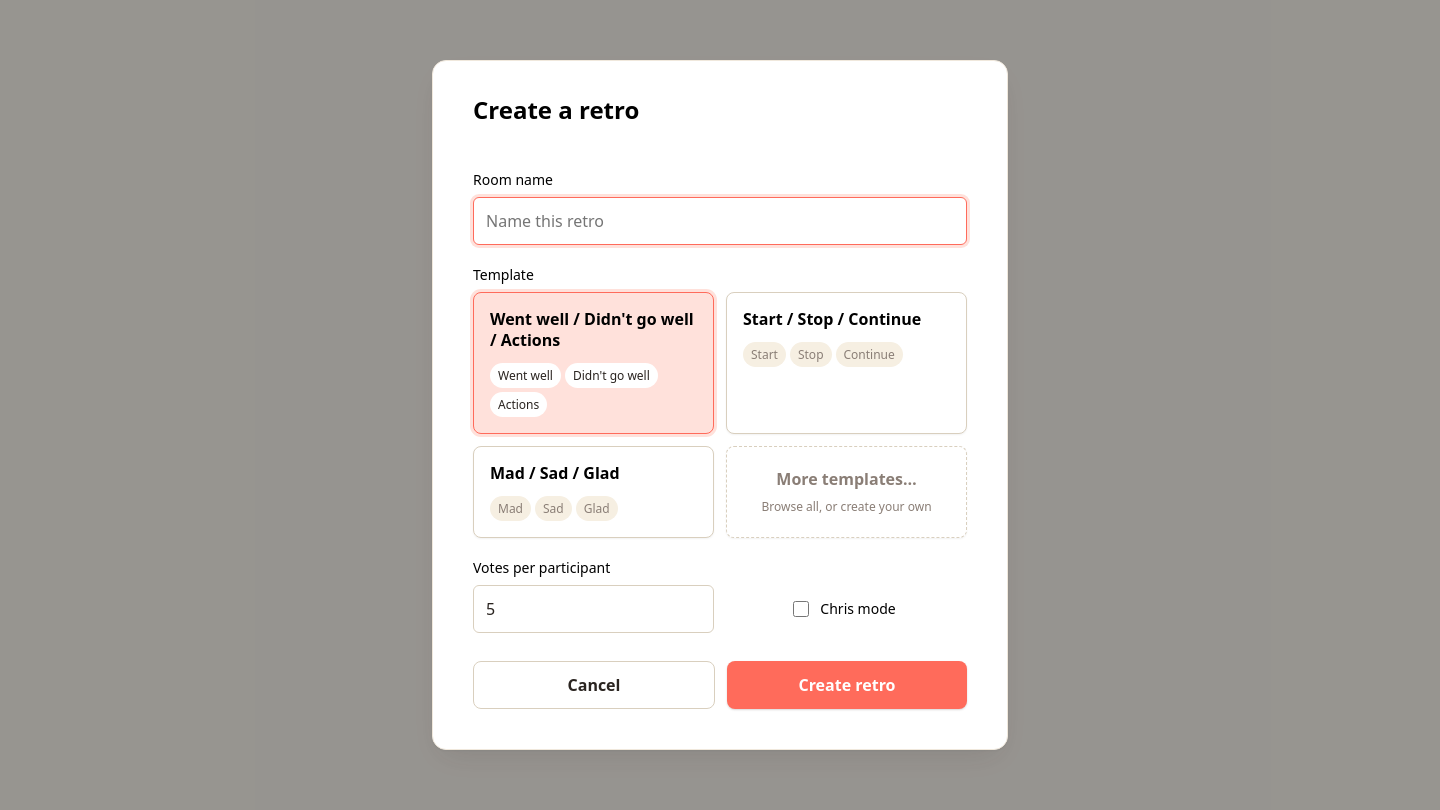
it: CreateRoomModal › rejects votes-per-participant < 1
The image size is (1440, 810).
Replace the text in the number field labelled "Votes per participant" with "0" at {"x": 594, "y": 609}, box [473,585,714,633]
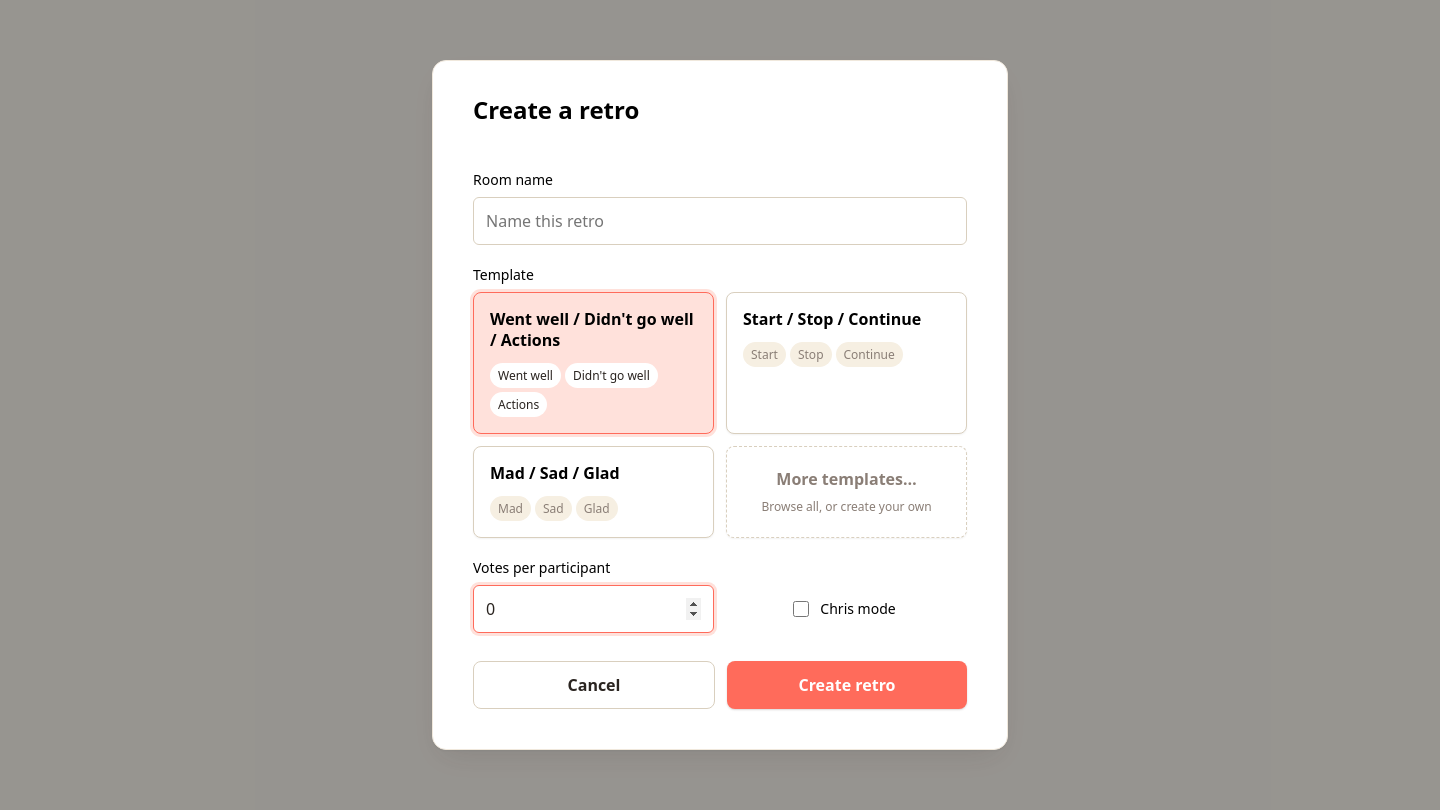
Type "X" into the field labelled "Room name" at {"x": 720, "y": 221}, box [473,197,967,245]
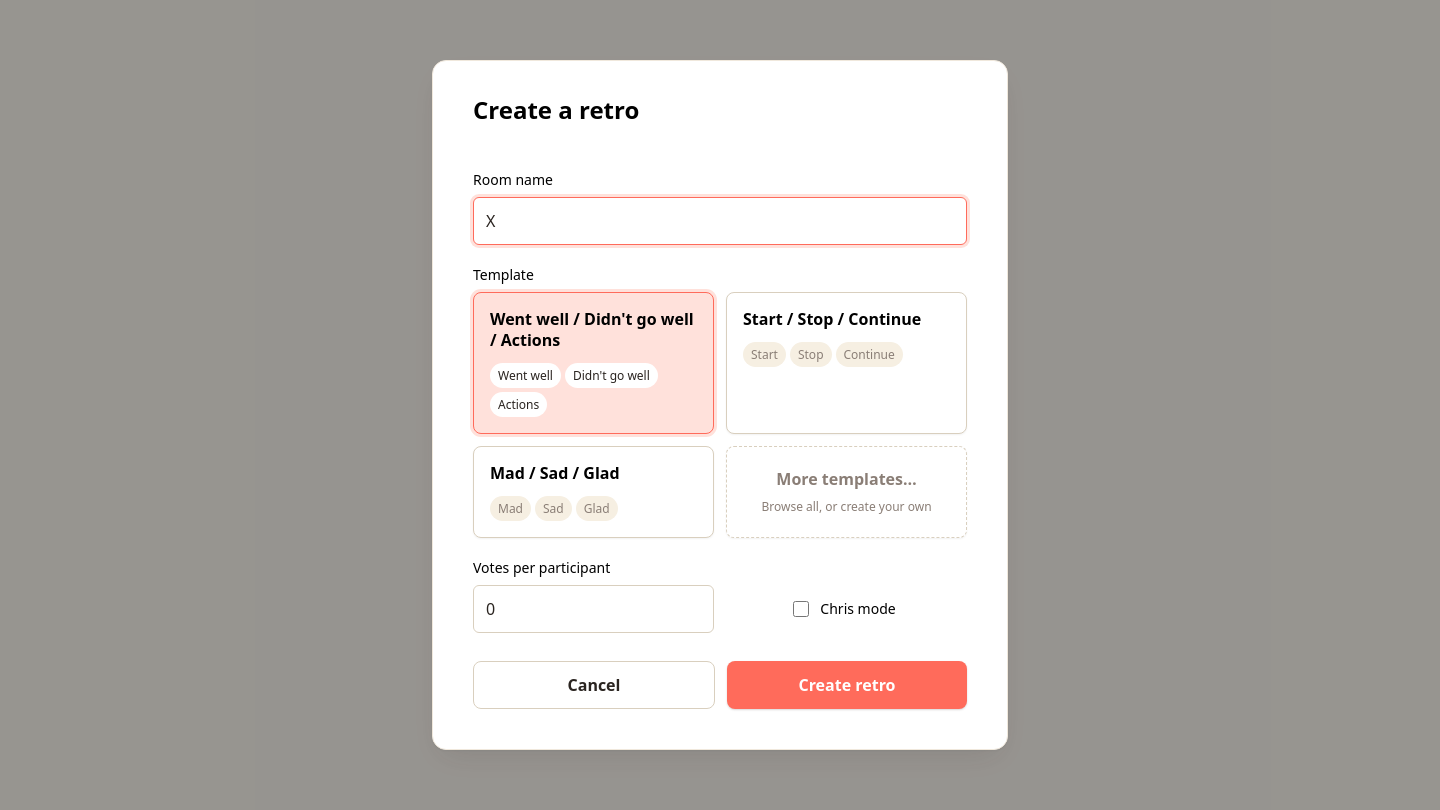
Click the button "Create retro" at {"x": 847, "y": 685}, box [727,661,967,709]
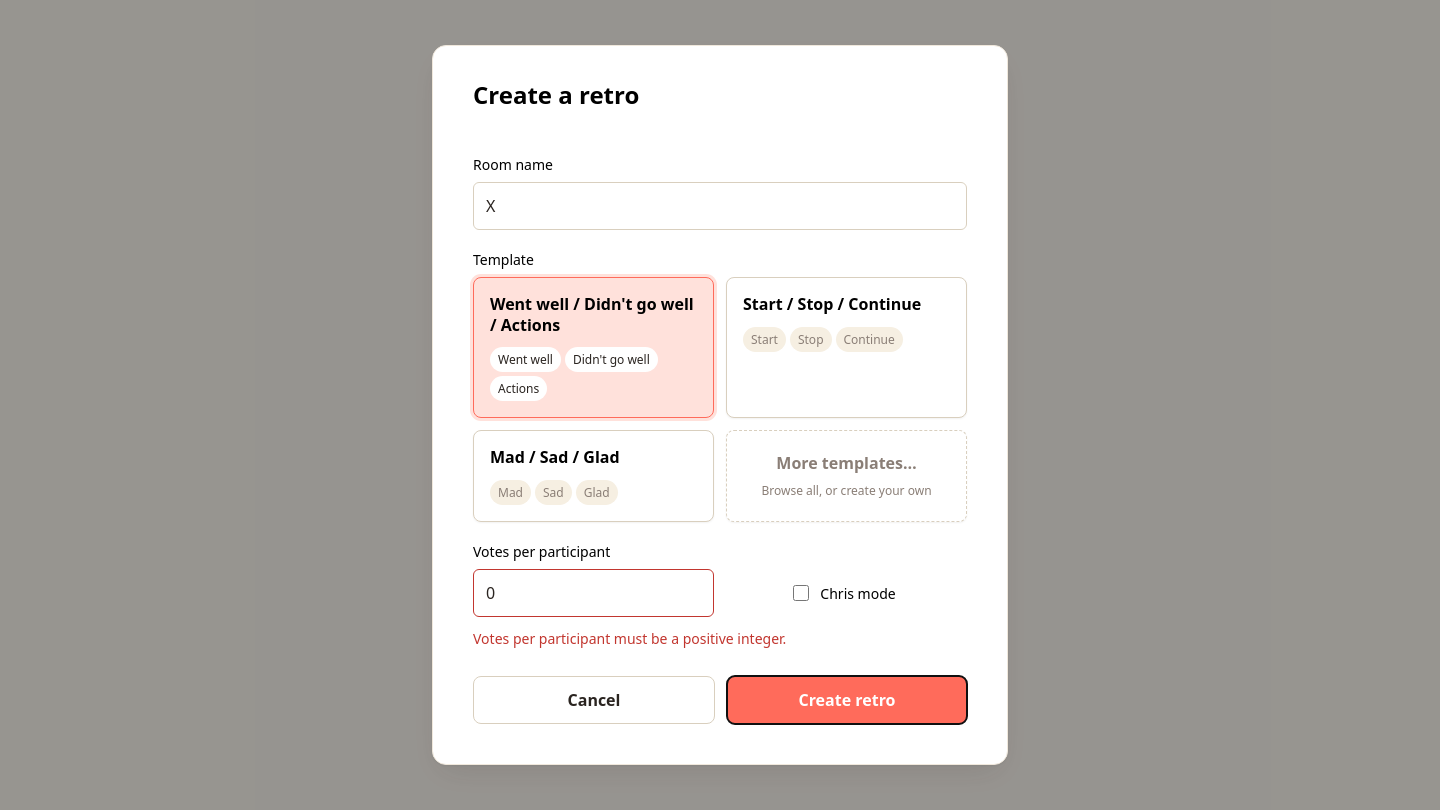
Expected: the message shows "positive integer", [473,629,786,648]
